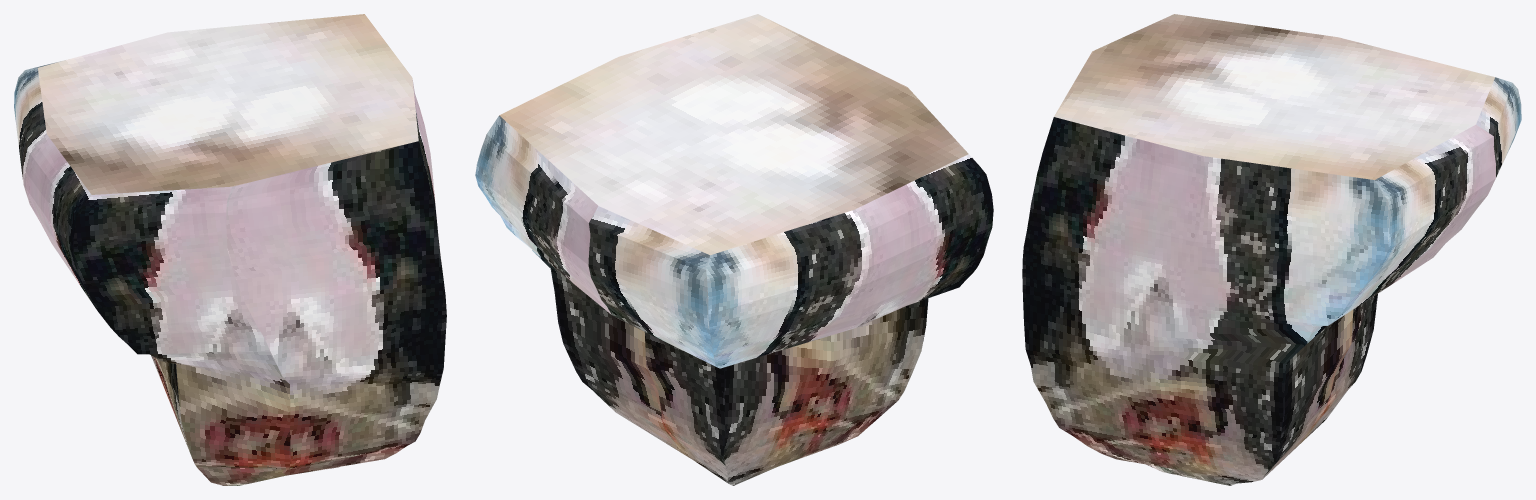
3 renders of one model, left to right at view 1: azimuth 30°, elevation 25°; view 2: azimuth 150°, elevation 25°; view 3: azimuth 270°, elevation 25°, orthographic. The views are drawn at different scales.
Visible parts, largest first — view 1: SPLICE_3; view 2: SPLICE_3; view 3: SPLICE_3.
Boxes of the visible parts, box(x1,y1,x2,y2) form: SPLICE_3: box(14, 14, 446, 485); SPLICE_3: box(475, 14, 993, 485); SPLICE_3: box(1022, 14, 1521, 485).
Size of the model in its own units: 1.62 by 1.42 by 1.67.
1 material, 1 textured.
